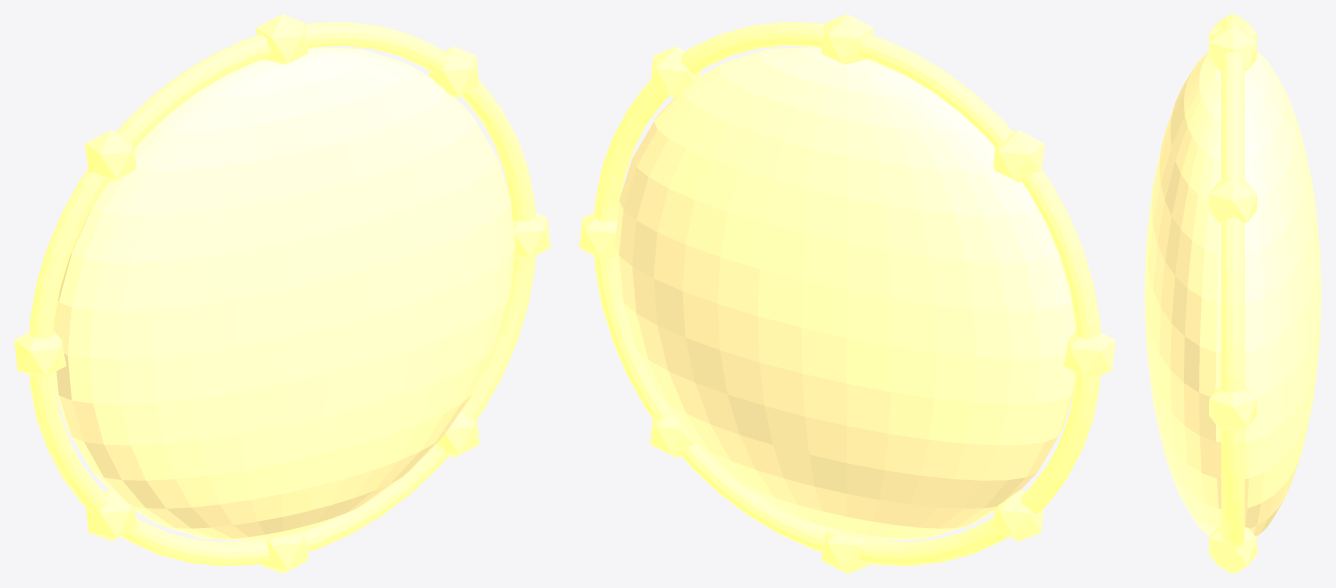
Rendered from VFX_03_三娃_铜头铁臂金钟护盾.glb.
3 renders of one model, left to right at view 1: azimuth 30°, elevation 25°; view 2: azimuth 150°, elevation 25°; view 3: azimuth 270°, elevation 25°, orthographic. The views are drawn at different scales.
Visible parts, largest first — view 1: Sphere, Torus, Icosphere.003, Icosphere.004, Icosphere.002, Icosphere.005, Icosphere.001, Icosphere.006, Icosphere, Icosphere.007; view 2: Sphere, Torus, Icosphere.003, Icosphere.004, Icosphere.002, Icosphere.005, Icosphere.001, Icosphere.006, Icosphere, Icosphere.007; view 3: Sphere, Torus, Icosphere.001, Icosphere, Icosphere.002, Icosphere.007, Icosphere.003.
Boxes of the visible parts, box(x1,y1,x2,y2) form: Sphere: box(53, 47, 515, 540); Torus: box(29, 21, 535, 566); Icosphere.003: box(85, 130, 136, 182); Icosphere.004: box(14, 332, 66, 377); Icosphere.002: box(256, 14, 308, 64); Icosphere.005: box(86, 490, 137, 541); Icosphere.001: box(429, 46, 479, 98); Icosphere.006: box(259, 531, 308, 573); Icosphere: box(512, 213, 550, 259); Icosphere.007: box(436, 411, 479, 457); Sphere: box(614, 47, 1076, 540); Torus: box(594, 21, 1100, 566); Icosphere.003: box(993, 130, 1044, 182); Icosphere.004: box(1063, 332, 1115, 377); Icosphere.002: box(821, 14, 873, 64); Icosphere.005: box(992, 490, 1043, 541); Icosphere.001: box(650, 46, 700, 98); Icosphere.006: box(821, 531, 870, 573); Icosphere: box(579, 213, 617, 259); Icosphere.007: box(650, 411, 693, 457); Sphere: box(1144, 52, 1321, 536); Torus: box(1221, 14, 1244, 573); Icosphere.001: box(1209, 177, 1256, 223); Icosphere: box(1209, 386, 1256, 430); Icosphere.002: box(1209, 25, 1256, 71); Icosphere.007: box(1209, 527, 1256, 571); Icosphere.003: box(1209, 20, 1256, 41).
Bounding box in the file's own units: 3.76 × 3.8 × 1.13.
